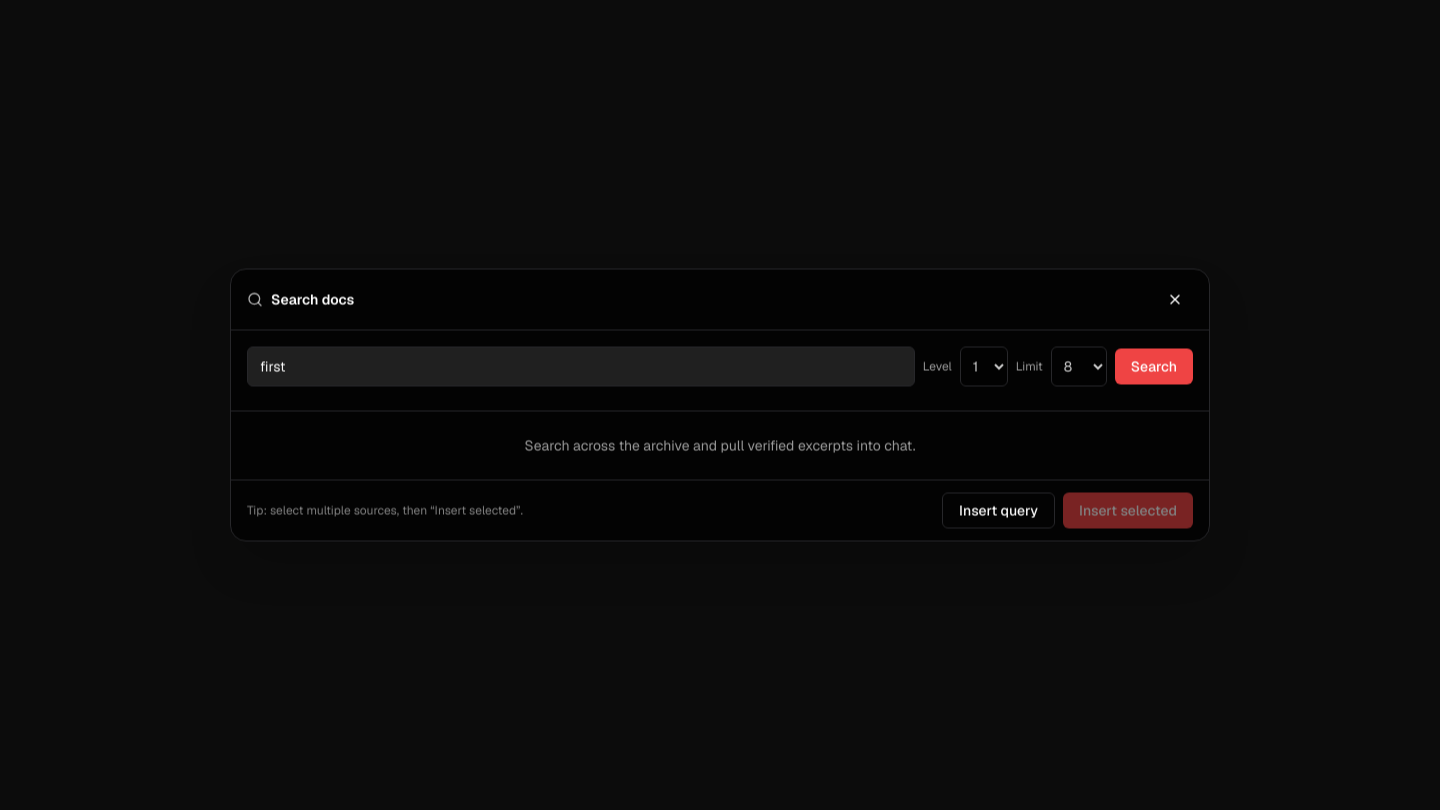
SearchDocsModal › displays empty state when no results are returned and clears selection
This screenshot has width=1440, height=810.
Step 1. Click the button "Search" → (1154, 366), box [1115,348,1193,384]
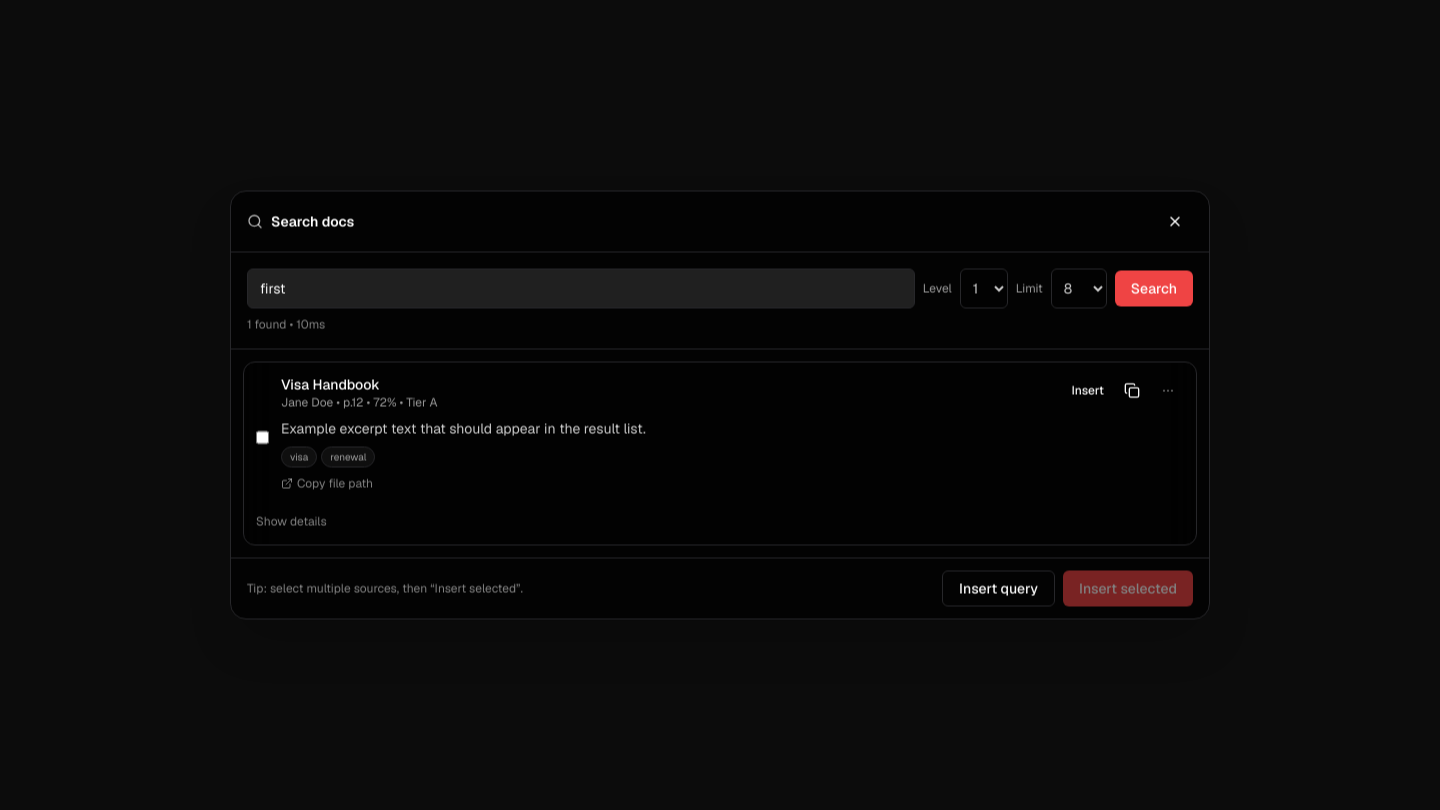
Result: the text "Visa Handbook" is shown at [281,376,380,394]
Step 2. Click the checkbox named "Select result 1" → (262, 438), box [256,378,269,496]
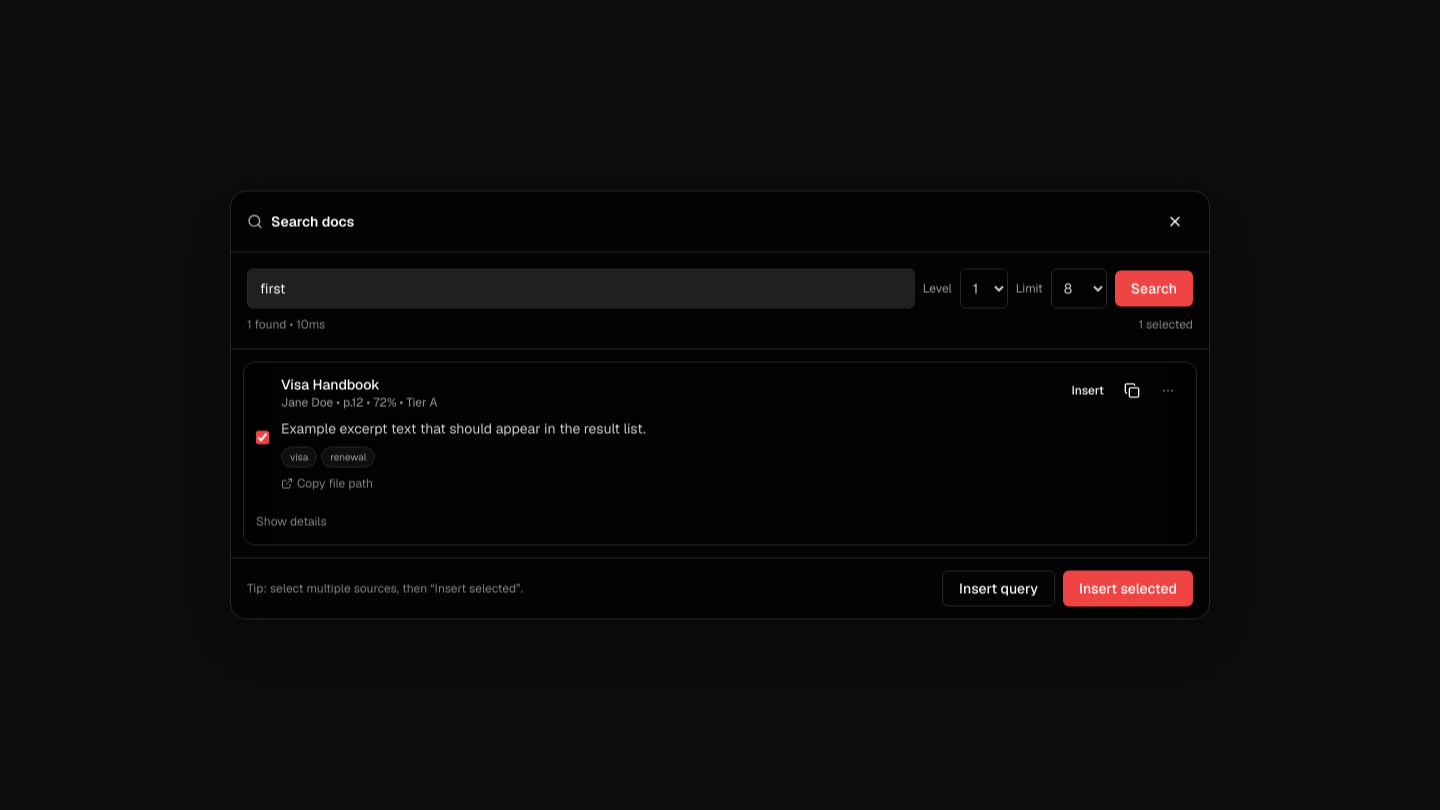
Step 3. Replace the text in the field with placeholder "Search the knowledge base…" with "second" → (581, 288), box [247,268,915,308]
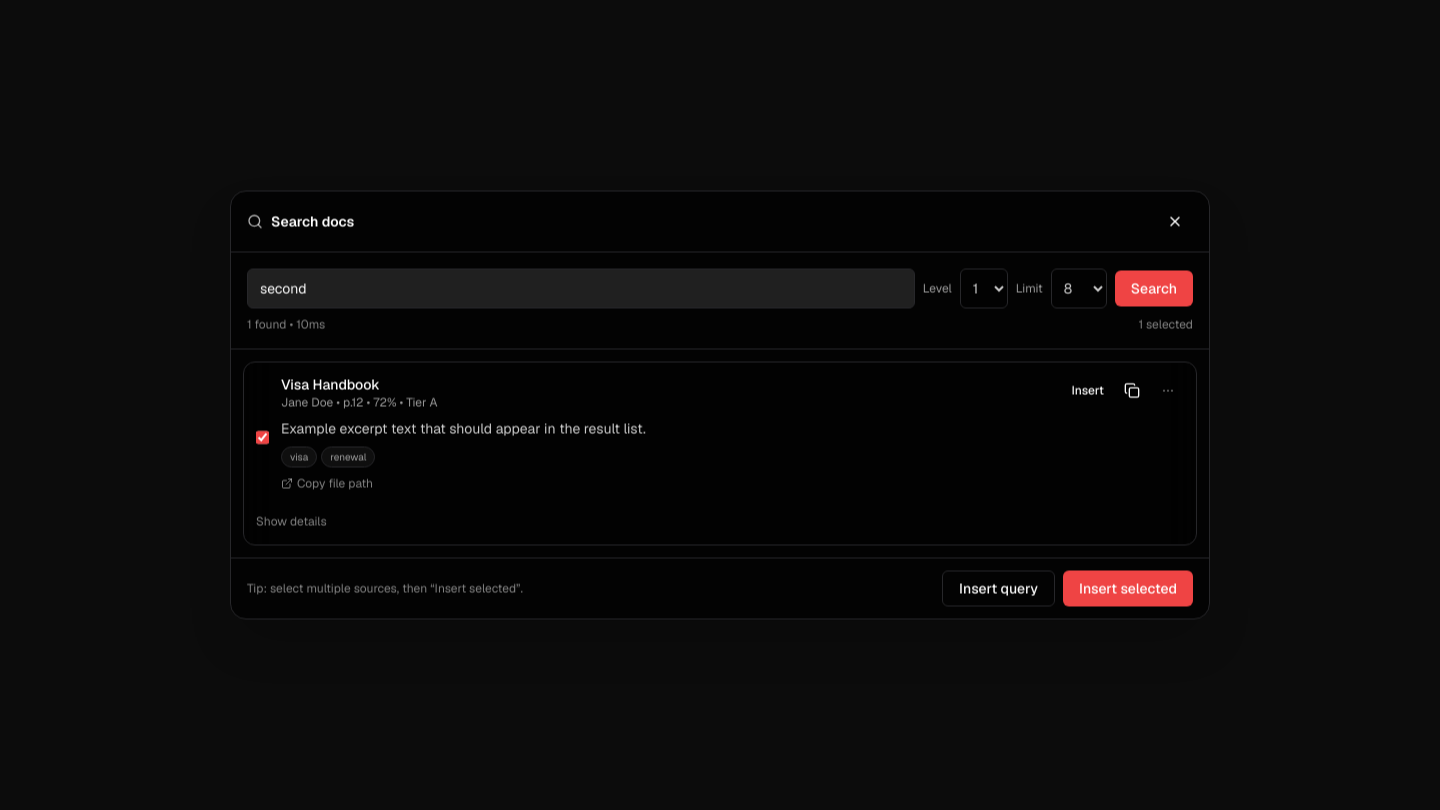
Step 4. Click the button "Search" → (1154, 288), box [1115,270,1193,306]
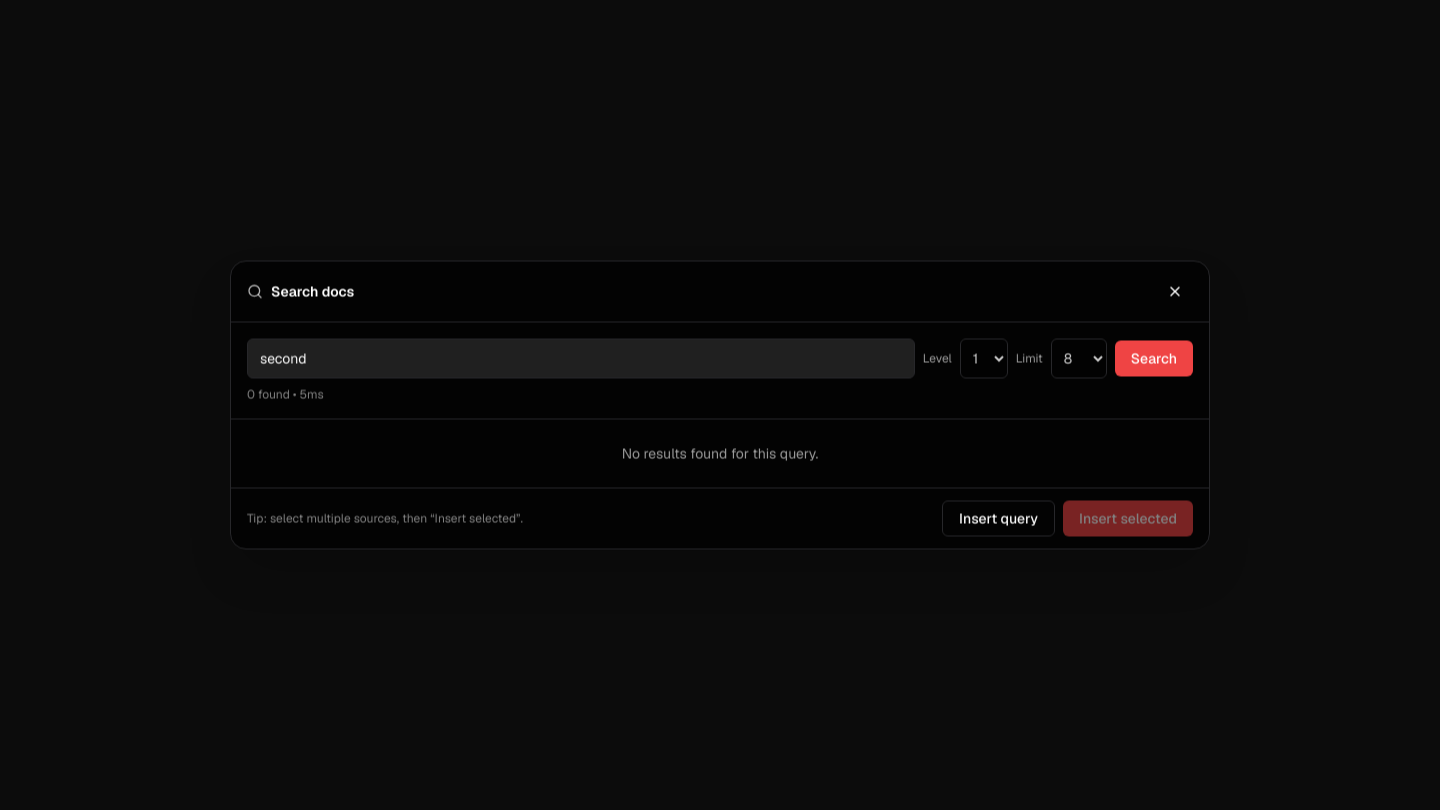
Result: the text "No results found for this query." is shown at [622,444,818,462]
Result: the button "Insert selected" is disabled at [1063,500,1193,536]
